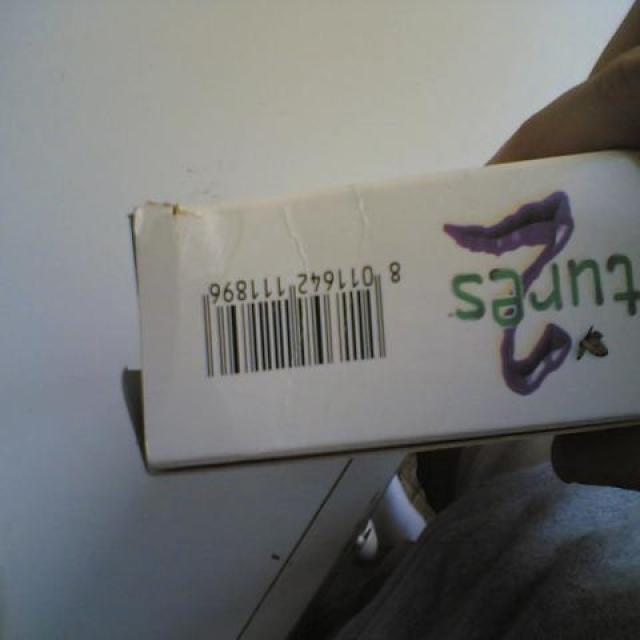Barcode: (182, 240, 429, 404)
